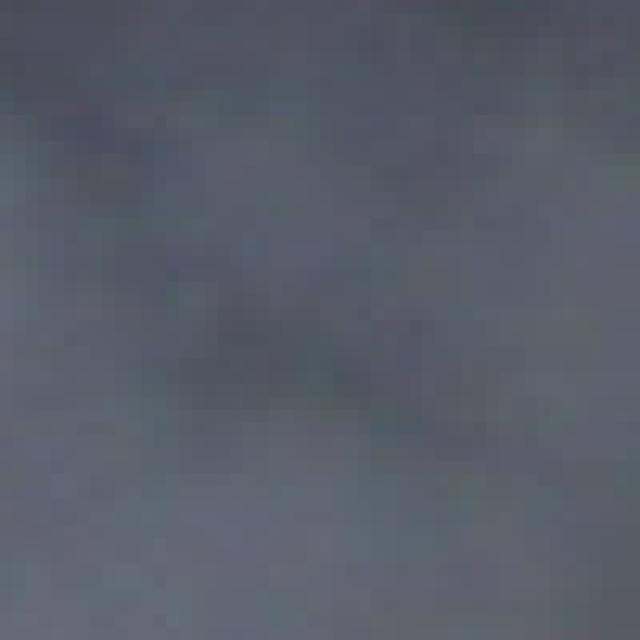no_fire: (3, 20, 640, 637)
